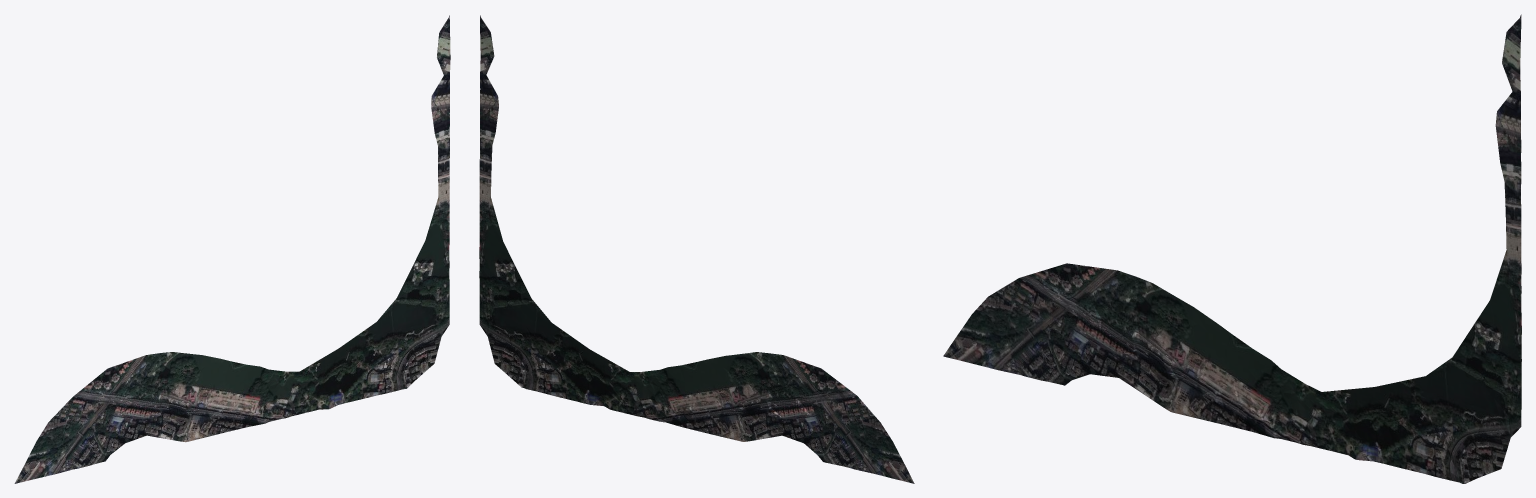
The picture shows the model from 3 angles, left to right: view 1: azimuth 30°, elevation 25°; view 2: azimuth 150°, elevation 25°; view 3: azimuth 330°, elevation 25°; orthographic projection. The views are drawn at different scales.
Parts seen in each view (by area): view 1: 0_0_3_1; view 2: 0_0_3_1; view 3: 0_0_3_1.
Part boxes in pixels (x1,y1,x2,y2): 0_0_3_1: (14, 15, 450, 483); 0_0_3_1: (479, 15, 914, 483); 0_0_3_1: (943, 14, 1521, 483).
Bounding box in the file's own units: 1883 × 1505 × 21.85.
1 material, 1 textured.
